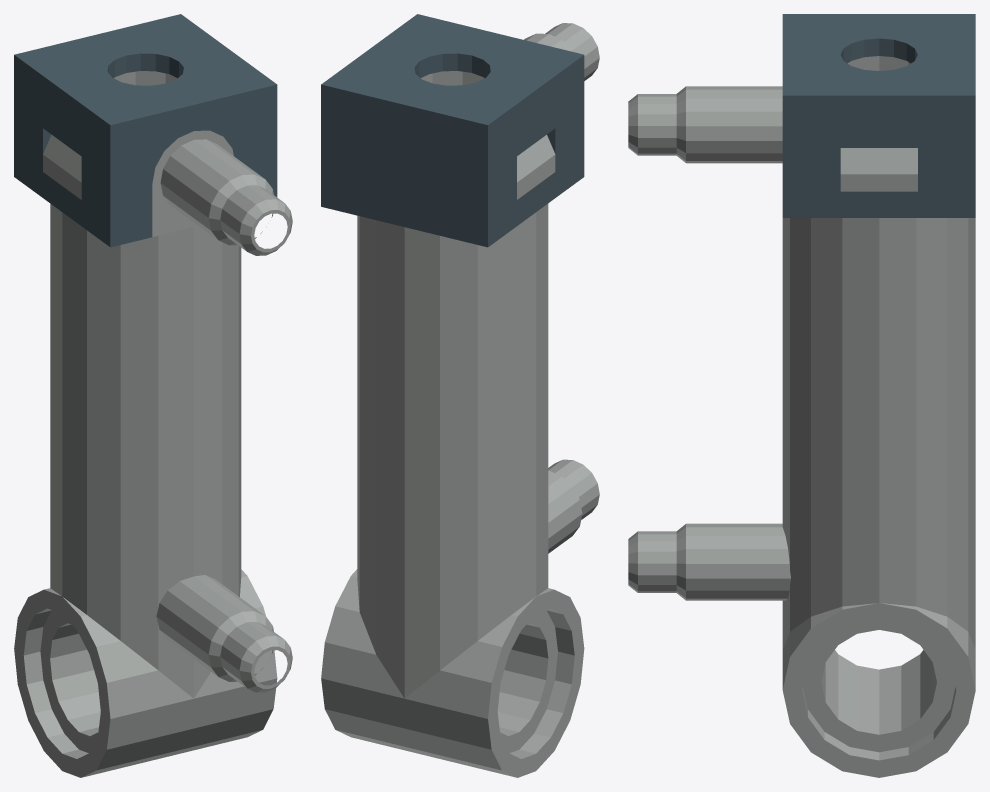
The picture shows the model from 3 angles, left to right: view 1: azimuth 30°, elevation 25°; view 2: azimuth 150°, elevation 25°; view 3: azimuth 270°, elevation 25°; orthographic projection.
Parts seen in each view (by area): view 1: world; view 2: world; view 3: world.
Part boxes in pixels (x1=…): world: x1=14, y1=14, x2=292, y2=777; world: x1=321, y1=14, x2=599, y2=777; world: x1=628, y1=14, x2=975, y2=777.
Bounding box in the file's own units: 0.008 × 0.0312 × 0.0144.
